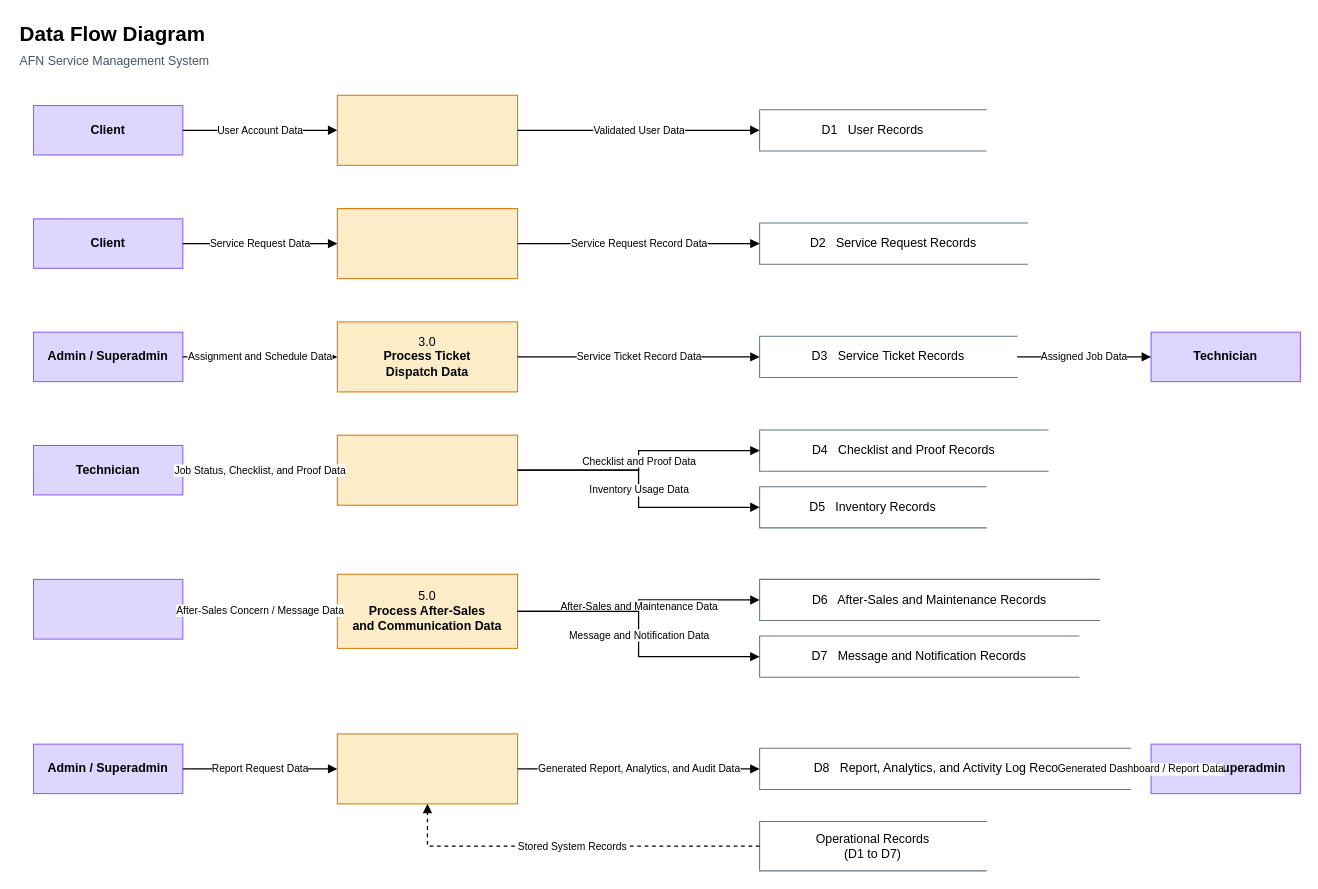
Some shapes in this 1318 by 889 pixel diagram are drawn without their labels. Each missing label, with the centre of its shape:
"1.0 Process User Account Data" belongs at point (427, 129).
"2.0 Process Service Request Data" belongs at point (427, 243).
"4.0 Process Technician Job Data" belongs at point (427, 469).
"6.0 Generate Reports, Analytics, and Logs" belongs at point (427, 768).
"Client / Admin / Technician" belongs at point (107, 608).
